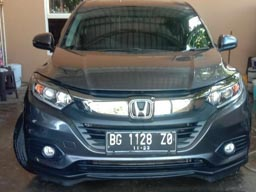plat: (106, 132, 176, 144)
